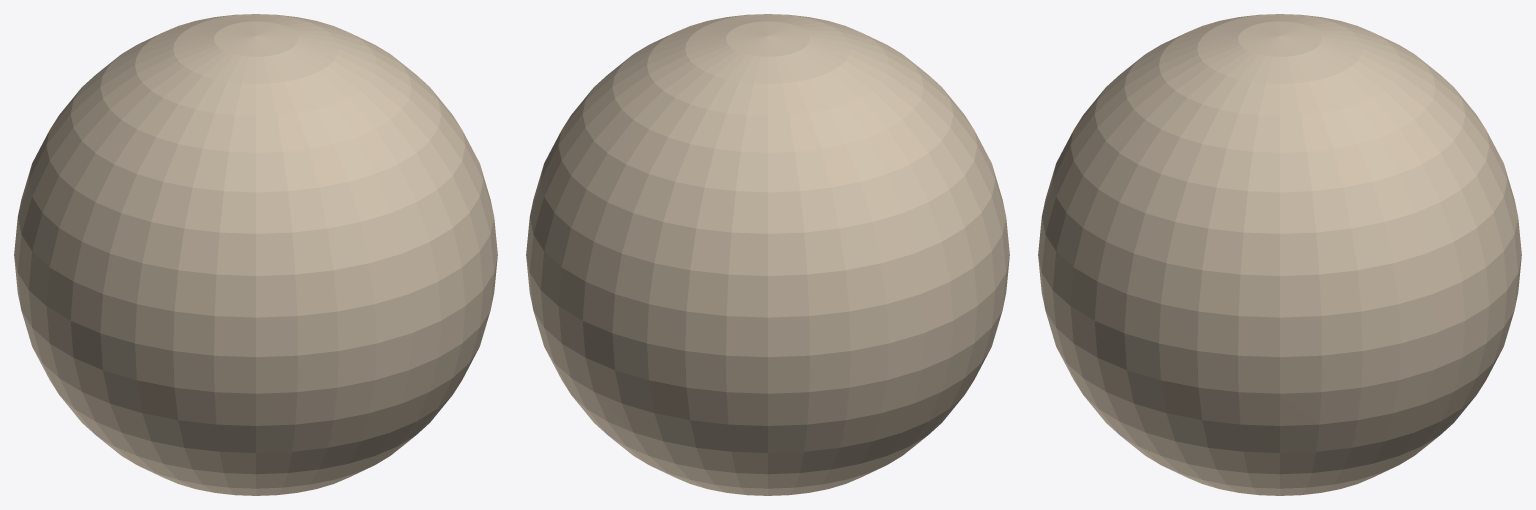
The model's file is NuclearMembrane.glb.
3 renders of one model, left to right at view 1: azimuth 30°, elevation 25°; view 2: azimuth 150°, elevation 25°; view 3: azimuth 270°, elevation 25°, orthographic.
Parts seen in each view (by area): view 1: Mesh_Mesh_head_geo.001_lambert2SG.001; view 2: Mesh_Mesh_head_geo.001_lambert2SG.001; view 3: Mesh_Mesh_head_geo.001_lambert2SG.001.
Boxes of the visible parts, x1=… form: Mesh_Mesh_head_geo.001_lambert2SG.001: x1=14, y1=14, x2=497, y2=495; Mesh_Mesh_head_geo.001_lambert2SG.001: x1=526, y1=14, x2=1009, y2=495; Mesh_Mesh_head_geo.001_lambert2SG.001: x1=1038, y1=14, x2=1521, y2=495.
Bounding box in the file's own units: 20 × 20 × 20.
